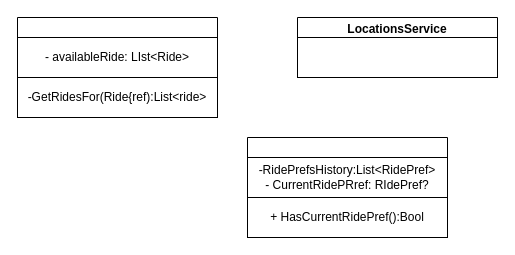
Some shapes in this 515 by 255 pixel diagram are drawn without their labels. Here are the shapes that lost their labels. From the top down, the box of each, then its label:
(16, 16, 218, 118): RidesService
(296, 36, 498, 78): - availableLocations:List<location>
(246, 136, 448, 238): RidePrefService
